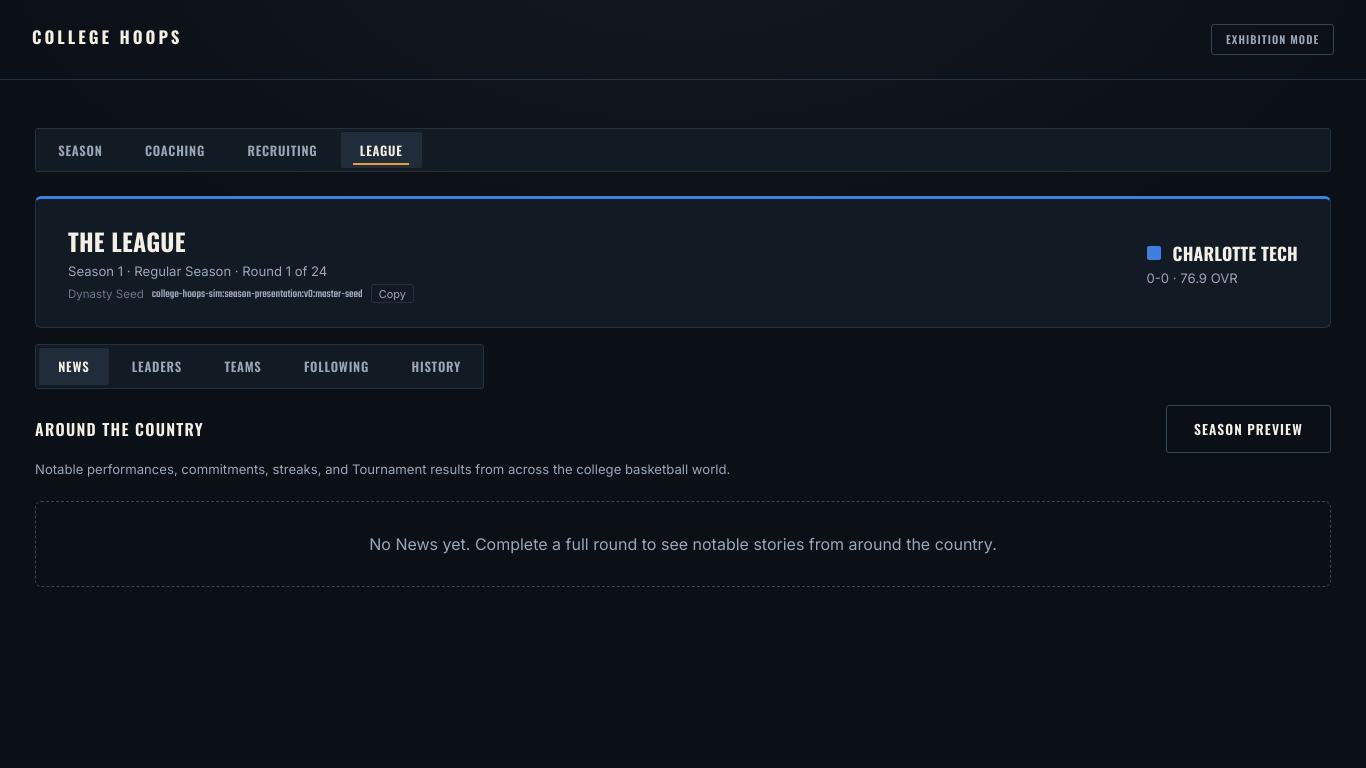
League History entry and index › renders canonical summaries newest-first and opens the intended Season
The width and height of the screenshot is (1366, 768).
Click the button "History".
click(436, 367)  # box [392,348,480,385]
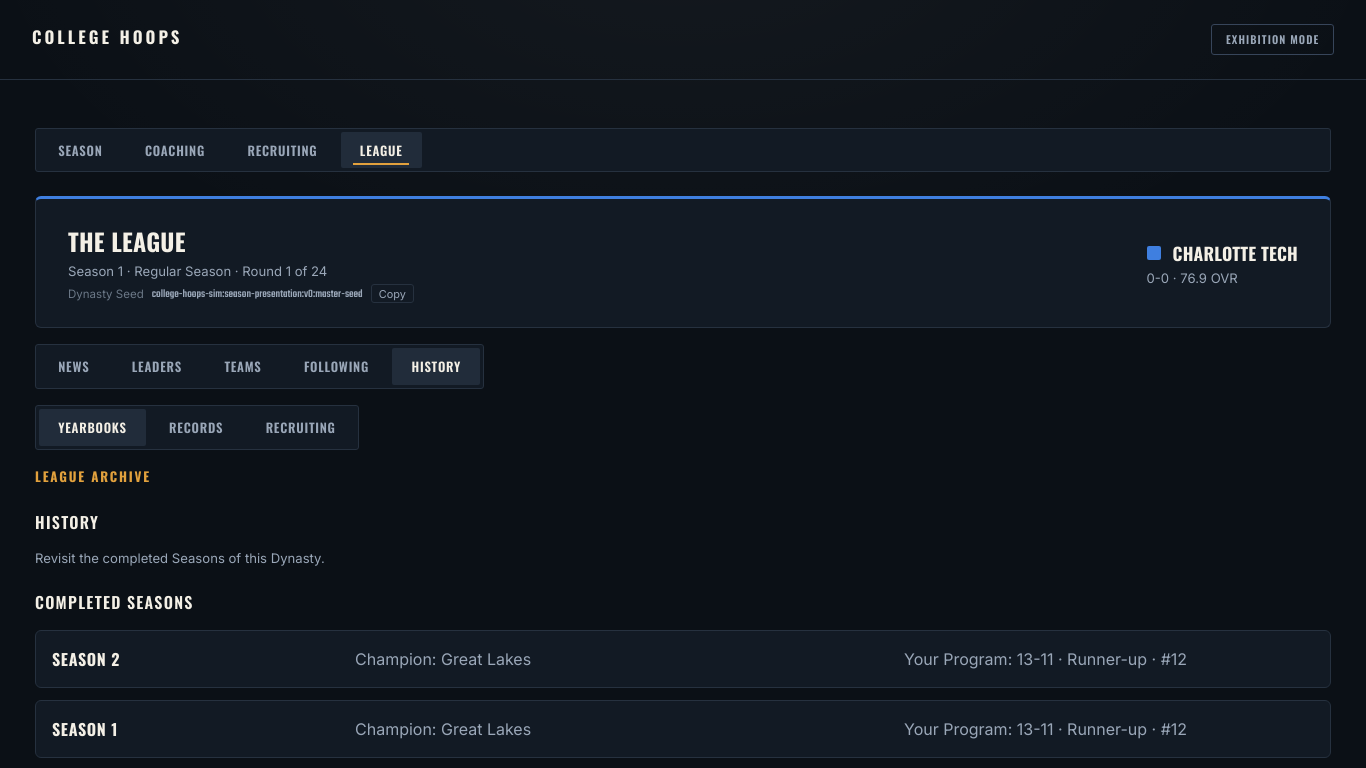
Result: the text "Season 2" is shown at [35,630,1331,688]
Click the button "Season 1".
click(82, 729)  # box [35,700,1331,758]
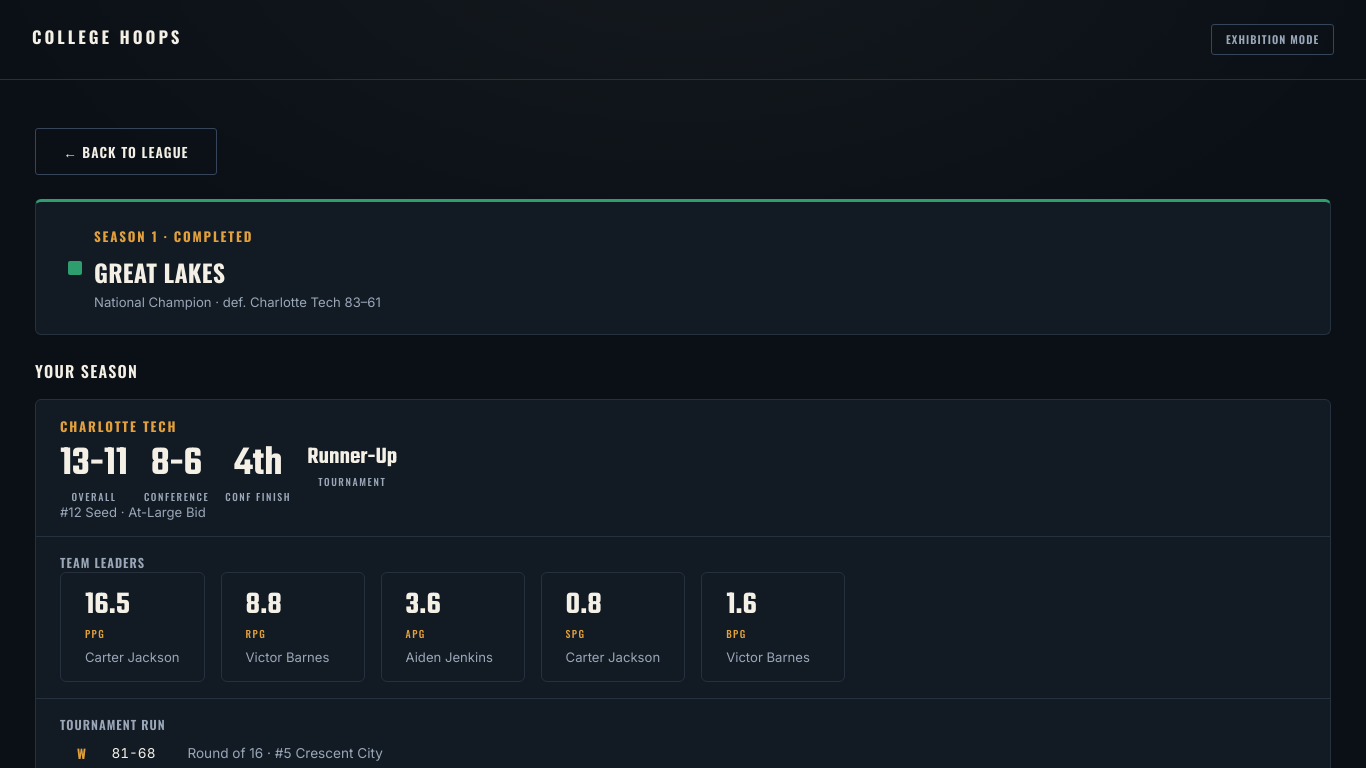
Result: the text "Season 1 · Completed" is shown at [94,226,253,246]
